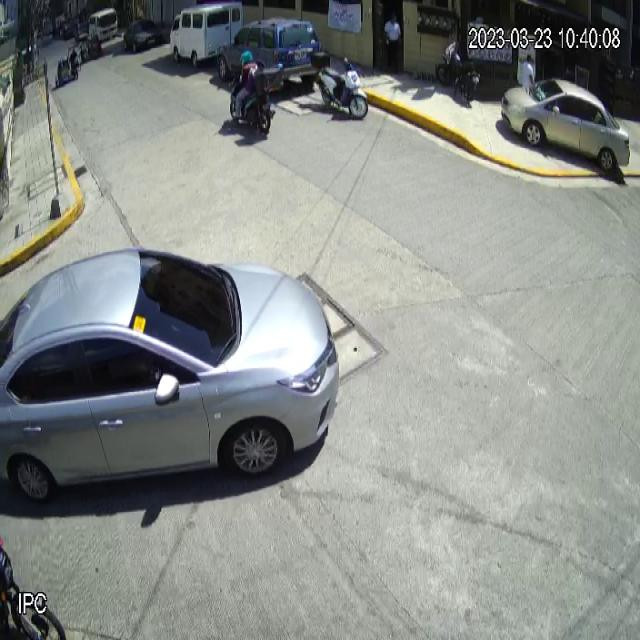Car: (0, 242, 341, 507), (501, 79, 631, 172), (216, 15, 323, 80)
Motorcycle: (312, 51, 368, 120)
Van: (169, 0, 243, 67)
